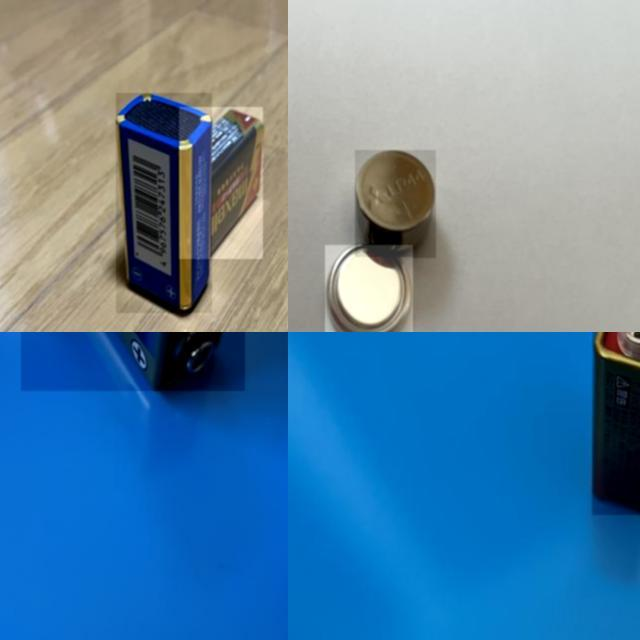9V: (116, 93, 212, 313), (179, 107, 263, 260), (592, 332, 640, 515)
